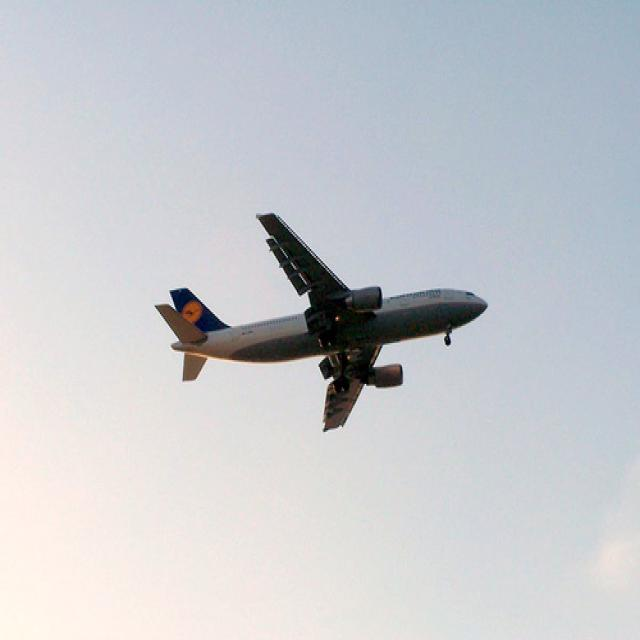aeroplane: (155, 213, 488, 433)
